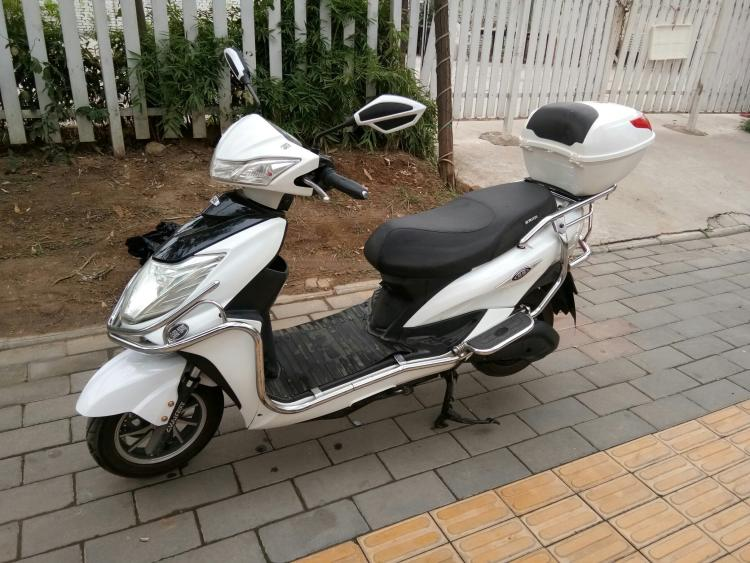电动车: (67, 42, 663, 491)
